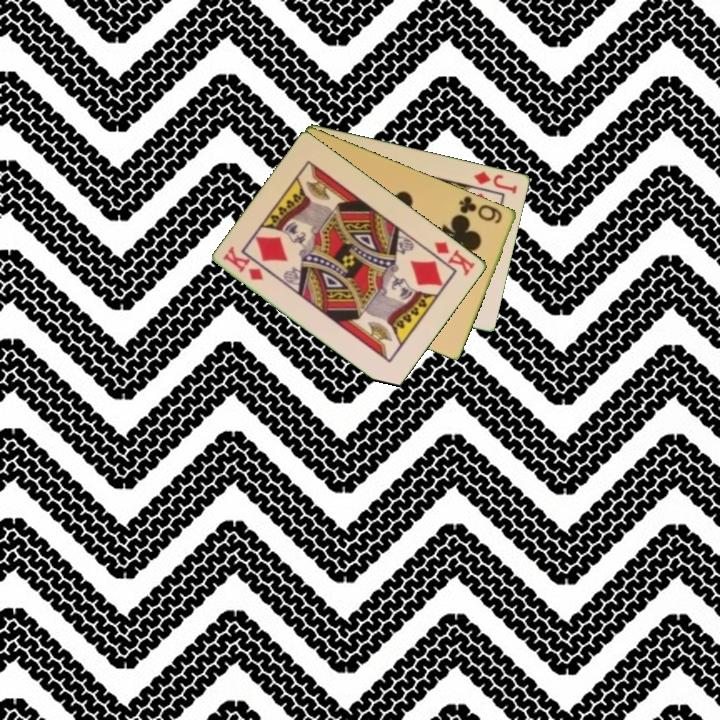6c: (455, 192, 505, 227)
Jd: (471, 168, 521, 197)
Kd: (431, 238, 478, 279), (220, 243, 267, 283)
